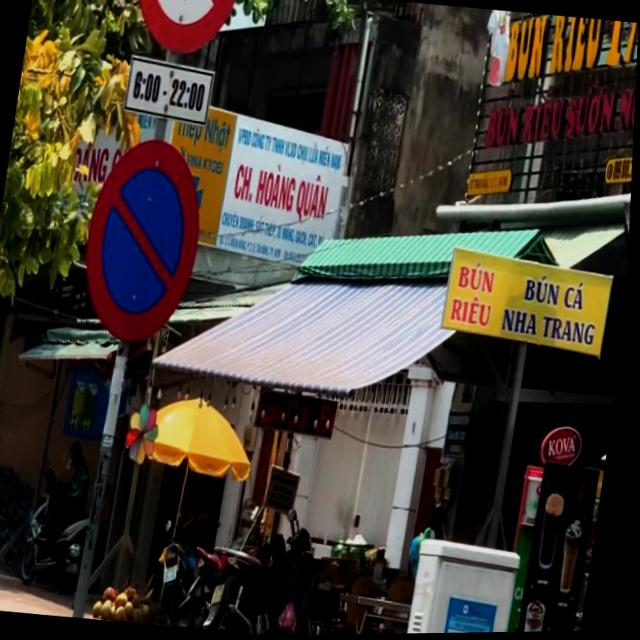Cam do xe: (74, 123, 218, 350)
